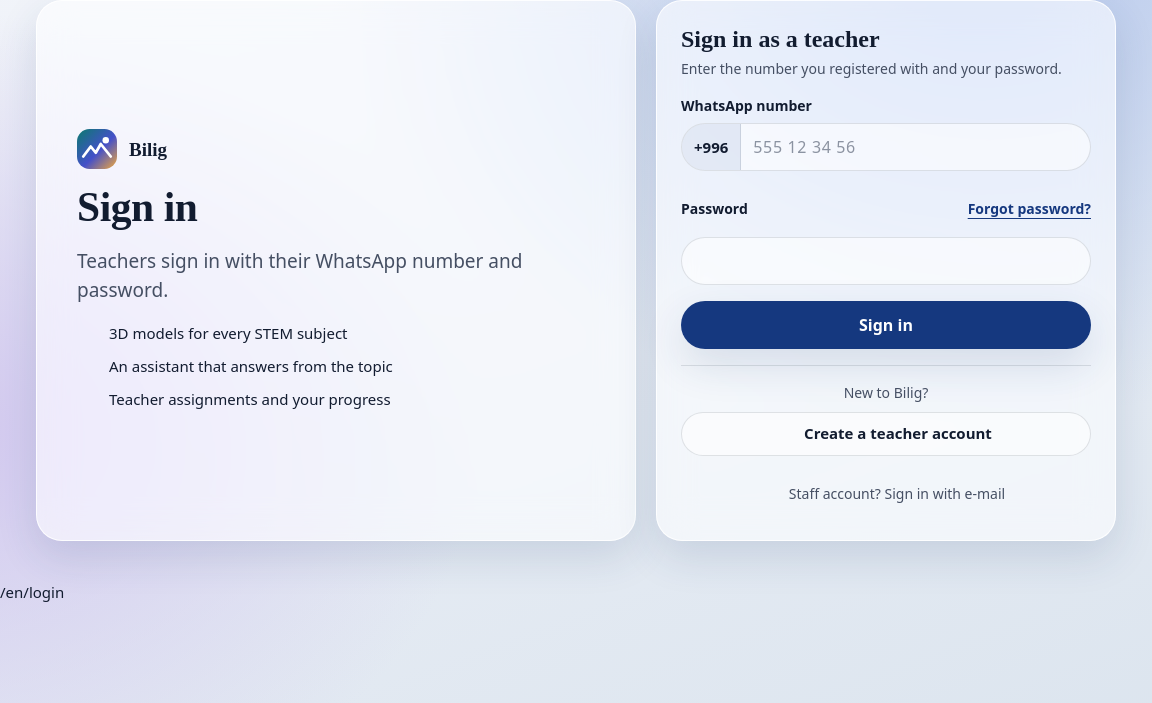
Scenario: LoginPage — contract 0.7.0 › validates the number on blur and on submit (error summary takes focus)
The image size is (1152, 703).
Type "55512" into the field labelled "WhatsApp number". click: (916,147)
box: [741,124,1090,170]
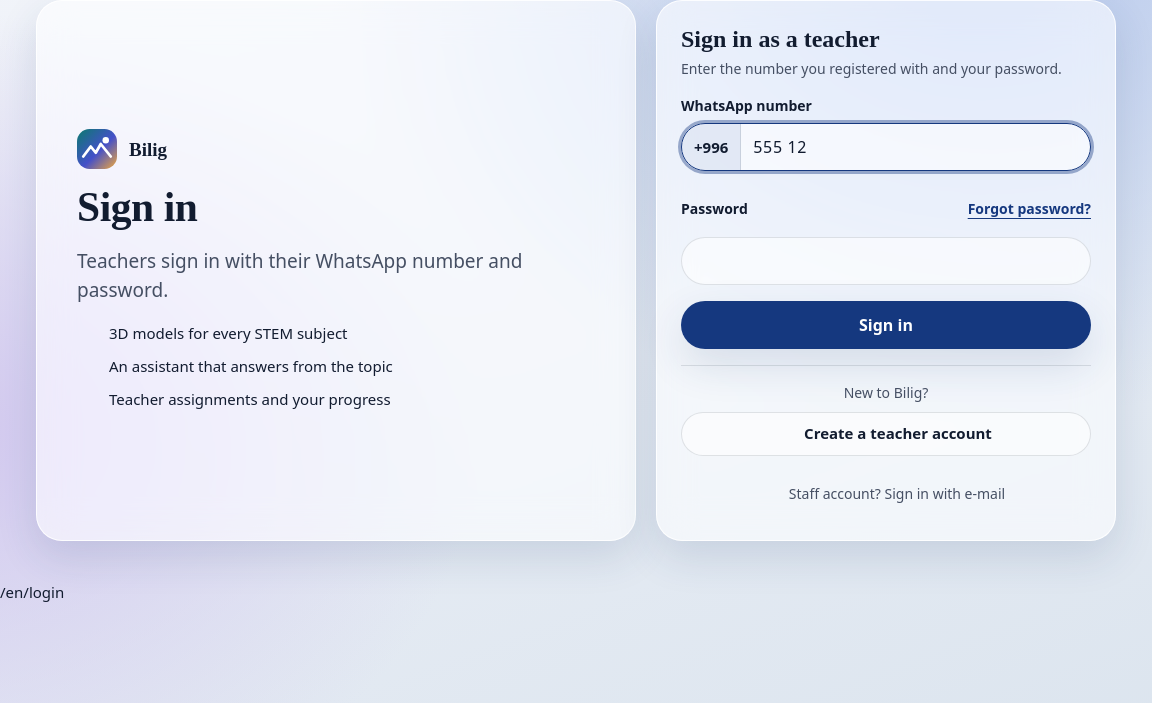
Press Tab
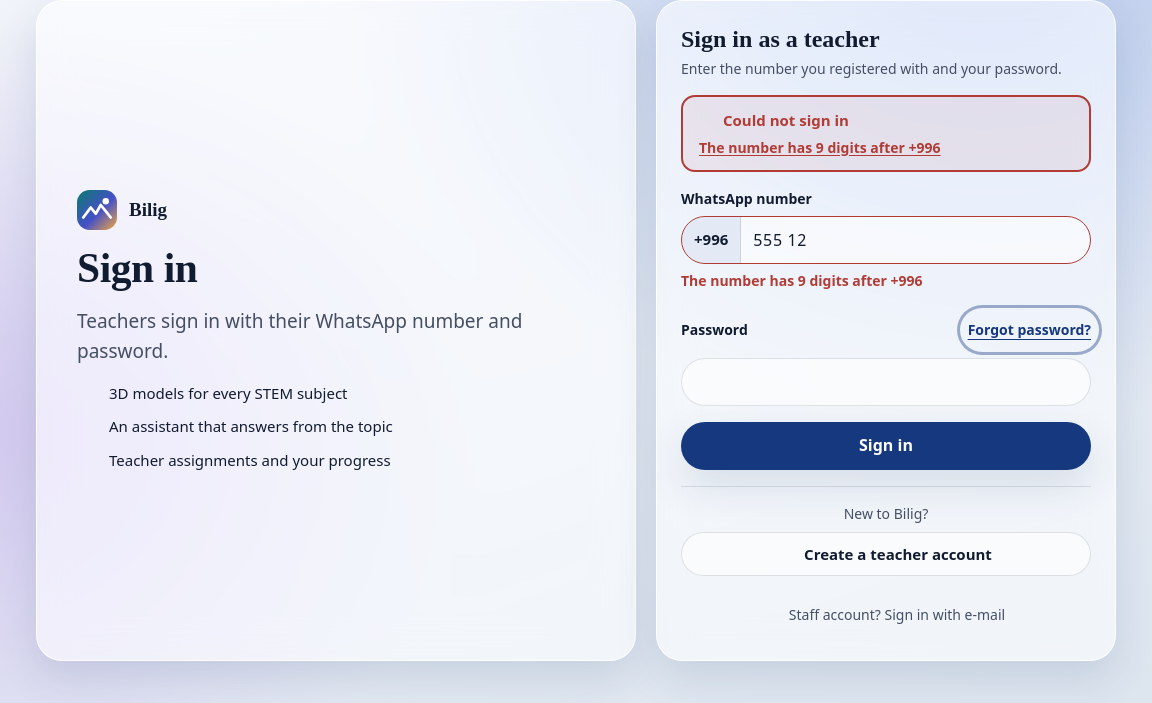
Check: the field labelled "WhatsApp number" is marked as invalid, box [741,217,1090,263]
Click the button "Sign in". click: (886,446)
box: [681,422,1091,470]
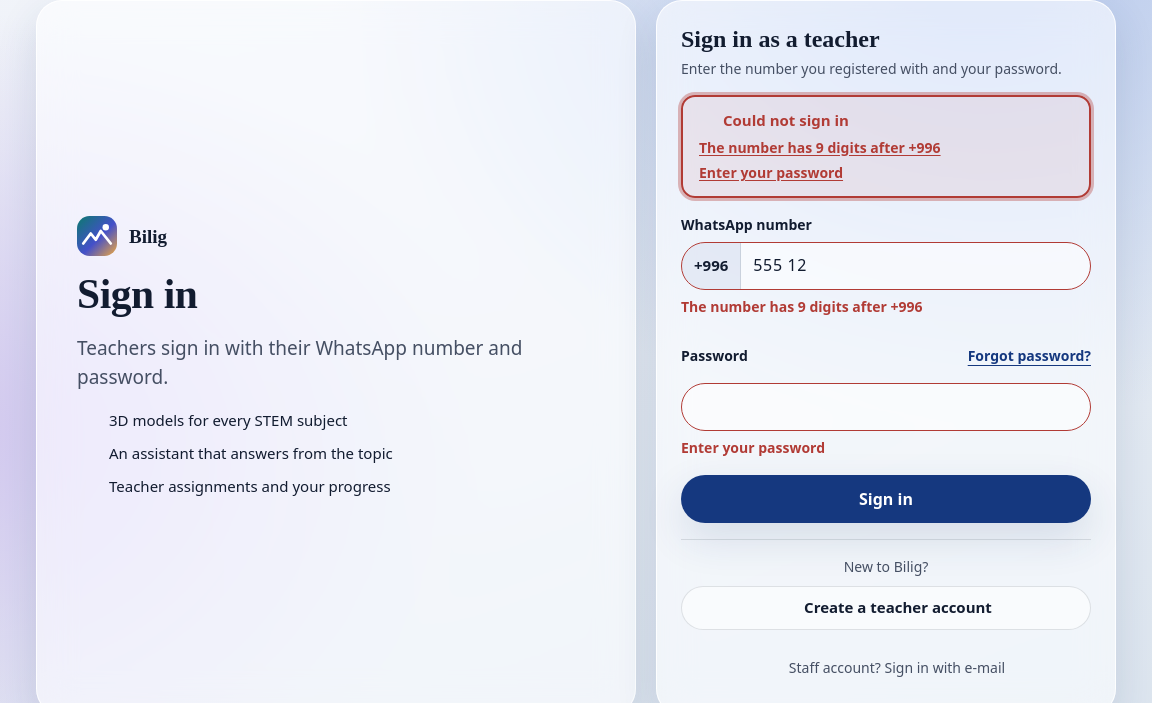
Check: the message shows "Could not sign in", box [723,110,849,130]
Check: the message shows "Enter your password", box [699,163,843,182]
